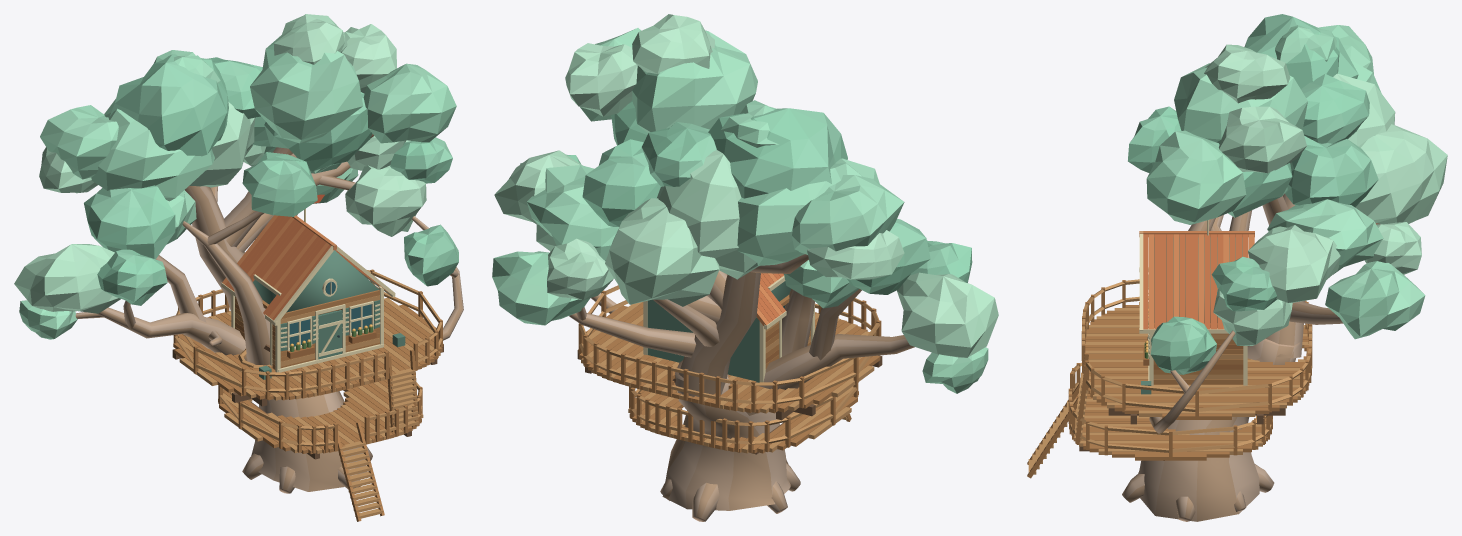
Rendered from treehouse_oak.glb.
The picture shows the model from 3 angles, left to right: view 1: azimuth 30°, elevation 25°; view 2: azimuth 150°, elevation 25°; view 3: azimuth 270°, elevation 25°; orthographic projection. The views are drawn at different scales.
Visible parts, largest first — view 1: FoliageCluster19, FoliageCluster00, FoliageCluster22, FoliageCluster01, FoliageCluster08, FoliageCluster06, FlaredTrunk, FoliageCluster17, FoliageCluster04, FoliageCluster24, CabinSideTrunk, FoliageCluster21 (+22 smaller); view 2: FlaredTrunk, FoliageCluster11, FoliageCluster00, FoliageCluster19, FoliageCluster08, FoliageCluster02, FoliageCluster04, FoliageCluster01, FoliageCluster13, FoliageCluster12, MainLeader, FoliageCluster25 (+20 smaller); view 3: FlaredTrunk, FoliageCluster22, FoliageCluster11, FoliageCluster25, FoliageCluster14, FoliageCluster12, FoliageCluster19, FoliageCluster23, FoliageCluster13, FoliageCluster03, FoliageCluster20, FoliageCluster00 (+36 smaller).
Boxes of the visible parts, <box> form: FoliageCluster19: <box>250,35,363,143</box>; FoliageCluster00: <box>109,54,228,156</box>; FoliageCluster22: <box>363,63,456,143</box>; FoliageCluster01: <box>91,99,214,201</box>; FoliageCluster08: <box>14,244,120,313</box>; FoliageCluster06: <box>84,185,175,259</box>; FlaredTrunk: <box>251,391,367,491</box>; FoliageCluster17: <box>345,165,426,236</box>; FoliageCluster04: <box>40,105,118,179</box>; FoliageCluster24: <box>242,152,317,216</box>; CabinSideTrunk: <box>182,221,269,365</box>; FoliageCluster21: <box>264,92,372,171</box>; FlaredTrunk: <box>662,360,790,510</box>; FoliageCluster11: <box>605,198,719,306</box>; FoliageCluster00: <box>708,108,847,198</box>; FoliageCluster19: <box>632,30,757,132</box>; FoliageCluster08: <box>896,272,998,357</box>; FoliageCluster02: <box>657,150,758,279</box>; FoliageCluster04: <box>792,175,904,254</box>; FoliageCluster01: <box>737,158,879,265</box>; FoliageCluster13: <box>527,165,618,260</box>; FoliageCluster12: <box>582,139,660,226</box>; MainLeader: <box>675,272,760,396</box>; FoliageCluster25: <box>492,251,589,325</box>; FlaredTrunk: <box>1138,338,1300,521</box>; FoliageCluster22: <box>1146,130,1246,224</box>; FoliageCluster11: <box>1355,124,1447,224</box>; FoliageCluster25: <box>1325,261,1425,339</box>; FoliageCluster14: <box>1248,225,1340,302</box>; FoliageCluster12: <box>1285,136,1378,207</box>; FoliageCluster19: <box>1174,63,1307,144</box>; FoliageCluster23: <box>1219,106,1306,173</box>; FoliageCluster13: <box>1267,199,1383,274</box>; FoliageCluster03: <box>1301,74,1369,143</box>; FoliageCluster20: <box>1204,44,1290,103</box>; FoliageCluster00: <box>1244,14,1358,88</box>.
Bounding box in the file's own units: 23.52 × 23.23 × 19.27.
